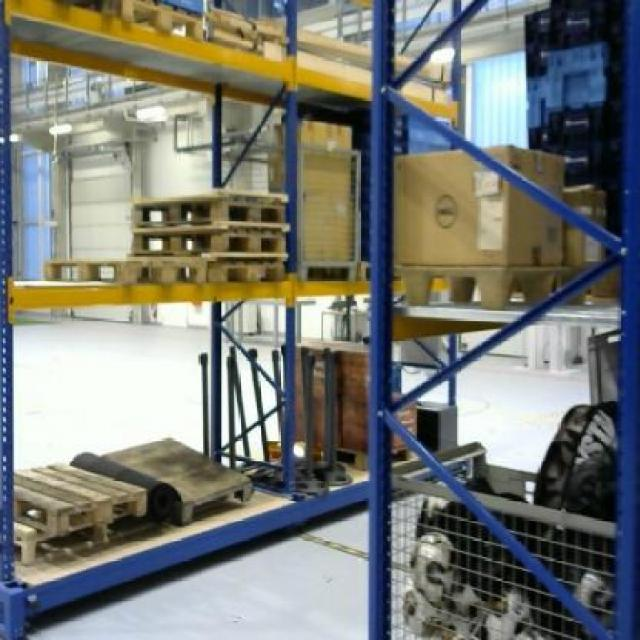box: (393, 145, 562, 264), (297, 116, 352, 258)
